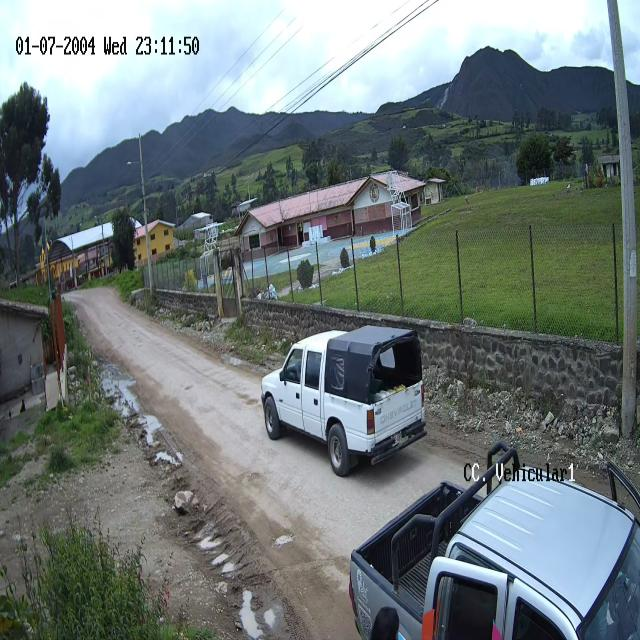CMT: (349, 442, 640, 640), (261, 327, 427, 478)
